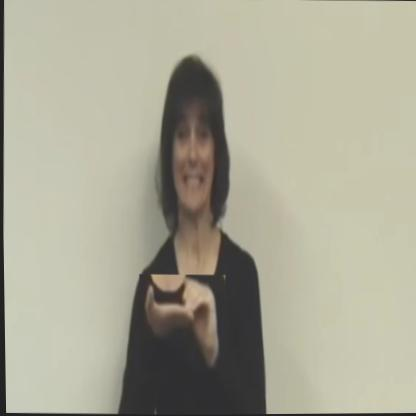ExcuseMe: (136, 274, 225, 372)
